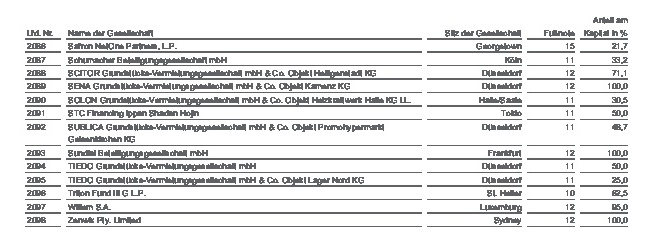table: (0, 0, 651, 246)
